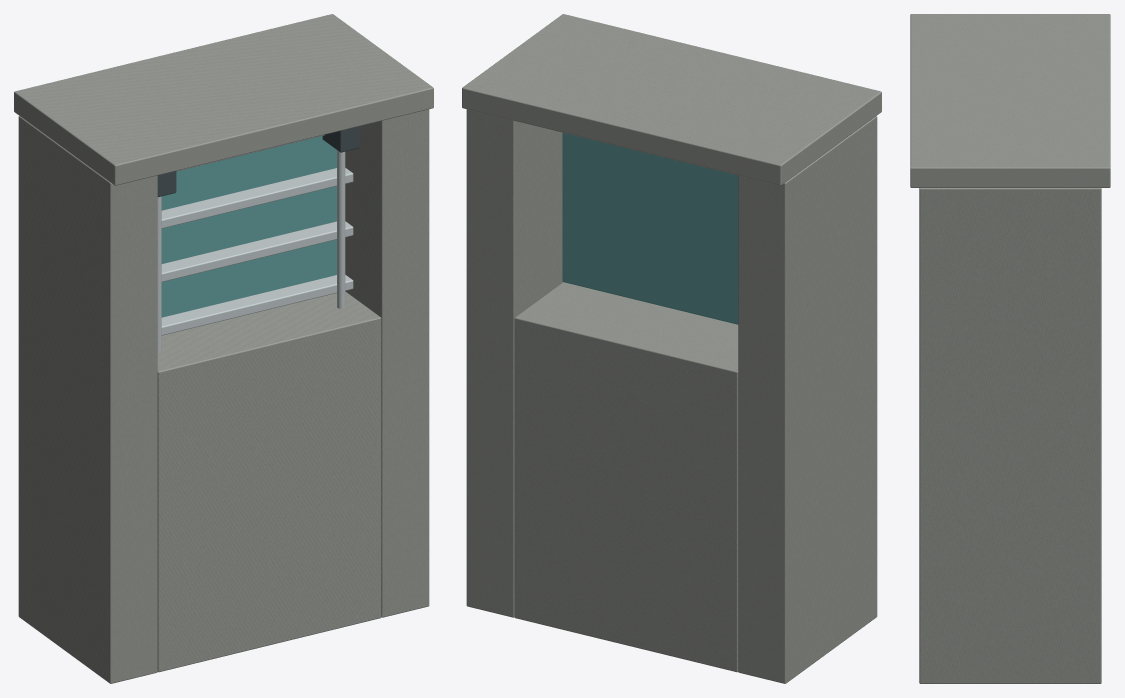
File: hydroelectric-dam-infiltration-spillway-gate-0c76a6c2__29333.glb
The picture shows the model from 3 angles, left to right: view 1: azimuth 30°, elevation 25°; view 2: azimuth 150°, elevation 25°; view 3: azimuth 270°, elevation 25°; orthographic projection.
Parts seen in each view (by area): view 1: spillway-gate; view 2: spillway-gate; view 3: spillway-gate.
Part boxes in pixels (x1=…): spillway-gate: x1=14, y1=14, x2=433, y2=683; spillway-gate: x1=462, y1=14, x2=881, y2=683; spillway-gate: x1=910, y1=14, x2=1110, y2=683.
Size of the model in its own units: 4 by 6.25 by 2.2.
4 materials, 1 textured.
